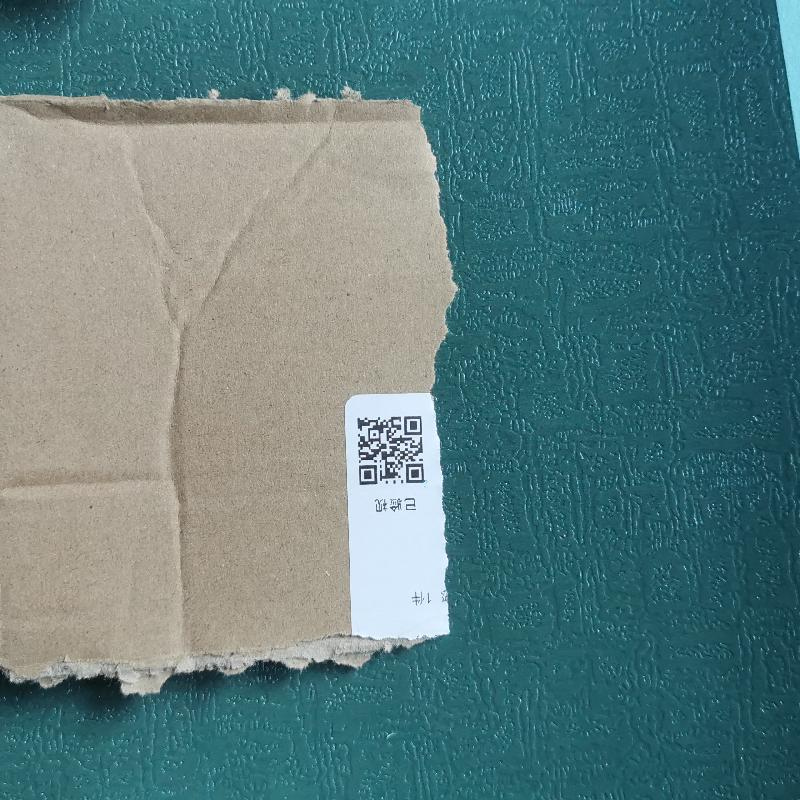boxes: (3, 68, 463, 697)
